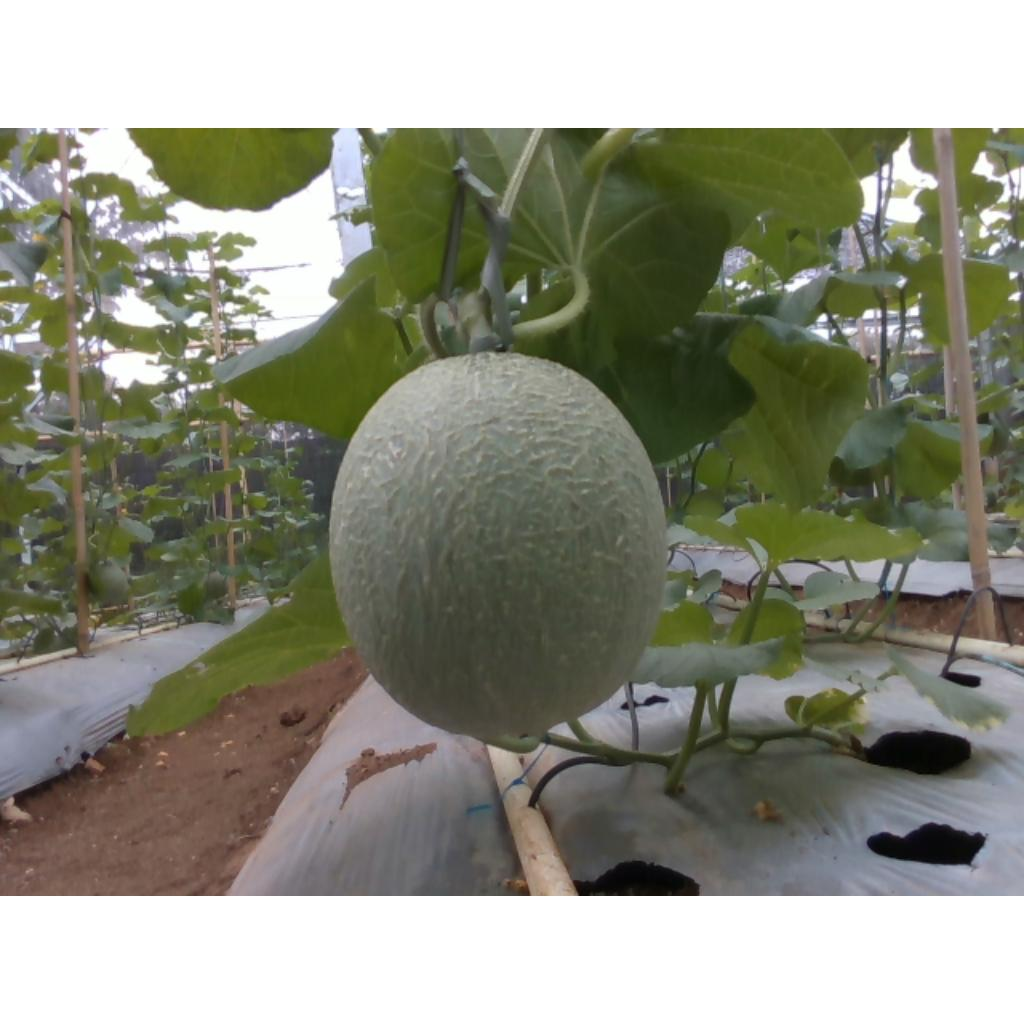melon: (330, 352, 667, 743)
